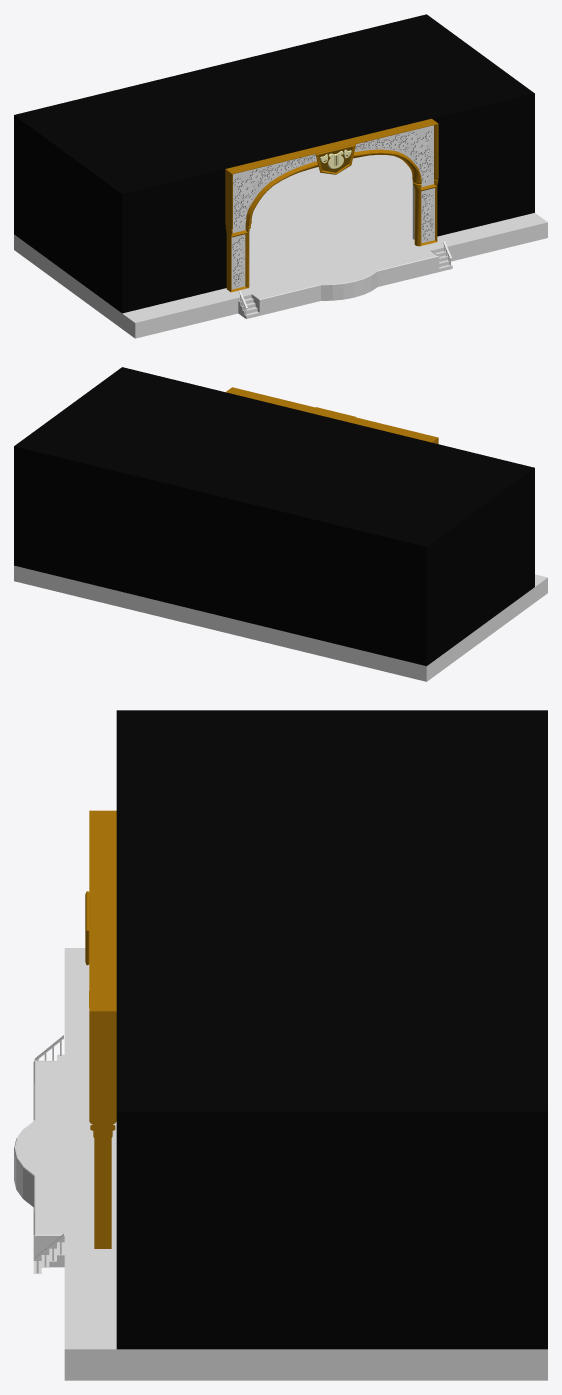
The model's file is Escenario1.fbx.
3 renders of one model, top to bottom at view 1: azimuth 30°, elevation 25°; view 2: azimuth 150°, elevation 25°; view 3: azimuth 270°, elevation 25°, orthographic. The views are drawn at different scales.
Parts seen in each view (by area): view 1: Limites, Escenario, MarcoEscenario, Pantalla; view 2: Limites, Escenario, MarcoEscenario; view 3: Limites, Escenario, MarcoEscenario.
Part boxes in pixels (x1,y1,x2,y2): Limites: (14,14,534,313); Escenario: (14,155,547,338); MarcoEscenario: (225,118,438,292); Pantalla: (315,144,355,174); Limites: (14,367,534,666); Escenario: (14,565,547,681); MarcoEscenario: (226,387,438,443); Limites: (116,710,547,1349); Escenario: (14,948,547,1380); MarcoEscenario: (89,810,116,1248).
Size of the model in its own units: 61983 by 19364 by 34845.
